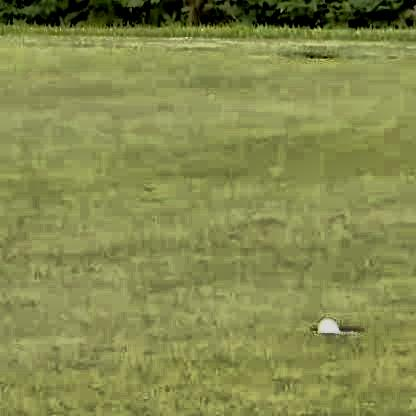golfball: (314, 315, 337, 333)
